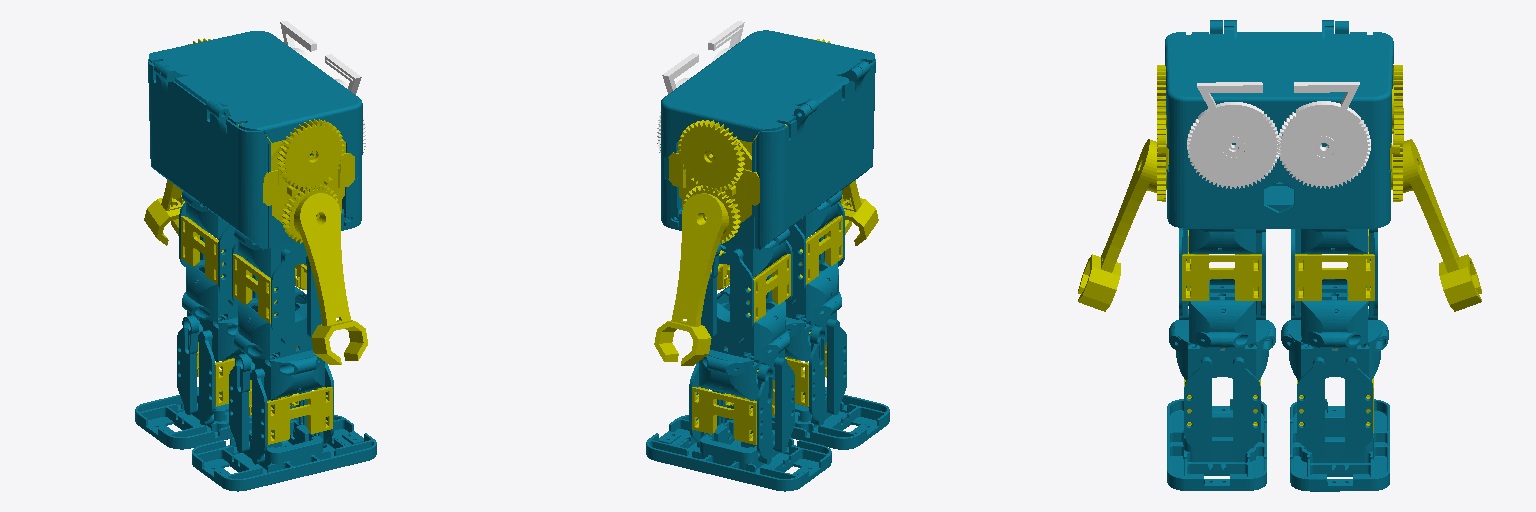
--- Render facts (derived) ---
Views: 3 orthographic renders of the robot side by side, from view 1: azimuth 30°, elevation 25°; view 2: azimuth 150°, elevation 25°; view 3: azimuth 270°, elevation 25°.
Robot: materials — 55 links, 54 joints (29 revolute, 25 fixed); root link base_link; default pose: every joint at zero.
Visible links, largest first — view 1: face, base_link, right_foot, right_arm, right_arm_servo_gear, left_foot, right_knee_crossbrace2, right_twist_servo_holder2, right_side_panel, right_hip_link2, left_knee_servo_link, right_knee_servo_link (+19 smaller); view 2: face, base_link, left_foot, left_arm, left_arm_servo_gear, right_foot, left_knee_crossbrace1, left_twist_servo_holder1, left_side_panel, left_hip_link3, left_knee_servo_mount, left_knee_link3 (+20 smaller); view 3: face, right_eye, left_eye, left_foot, right_foot, left_hip_crossbrace1, right_hip_crossbrace1, right_knee_servo_holder, left_knee_servo_holder, right_arm, left_arm, left_knee_link1 (+21 smaller).
Link boxes in pixels (bbox=[...]): face: bbox=[149, 31, 362, 227]; base_link: bbox=[148, 59, 360, 249]; right_foot: bbox=[192, 415, 376, 491]; right_arm: bbox=[294, 193, 350, 325]; right_arm_servo_gear: bbox=[277, 119, 344, 190]; left_foot: bbox=[135, 387, 298, 449]; right_knee_crossbrace2: bbox=[267, 387, 332, 444]; right_twist_servo_holder2: bbox=[239, 303, 312, 359]; right_side_panel: bbox=[263, 137, 354, 223]; right_hip_link2: bbox=[271, 249, 294, 346]; left_knee_servo_link: bbox=[177, 315, 198, 414]; right_knee_servo_link: bbox=[229, 354, 250, 452]; face: bbox=[661, 30, 874, 227]; base_link: bbox=[662, 59, 875, 249]; left_foot: bbox=[646, 415, 831, 491]; left_arm: bbox=[671, 193, 728, 326]; left_arm_servo_gear: bbox=[677, 120, 744, 190]; right_foot: bbox=[725, 387, 889, 449]; left_knee_crossbrace1: bbox=[692, 387, 756, 444]; left_twist_servo_holder1: bbox=[710, 303, 784, 359]; left_side_panel: bbox=[668, 136, 759, 224]; left_hip_link3: bbox=[730, 249, 753, 345]; left_knee_servo_mount: bbox=[717, 349, 784, 399]; left_knee_link3: bbox=[773, 357, 794, 453]; face: bbox=[1165, 20, 1393, 225]; right_eye: bbox=[1187, 82, 1279, 188]; left_eye: bbox=[1278, 82, 1370, 188]; left_foot: bbox=[1290, 399, 1389, 491]; right_foot: bbox=[1167, 399, 1266, 490]; left_hip_crossbrace1: bbox=[1295, 254, 1374, 300]; right_hip_crossbrace1: bbox=[1182, 254, 1261, 300]; right_knee_servo_holder: bbox=[1169, 328, 1275, 379]; left_knee_servo_holder: bbox=[1281, 328, 1388, 380]; right_arm: bbox=[1101, 139, 1156, 272]; left_arm: bbox=[1403, 139, 1458, 272]; left_knee_link1: bbox=[1345, 357, 1372, 461].
Size in the robot's own frame: 0.0958 by 0.2034 by 0.223 metres.
Meshes: 17 distinct files referenced, 55 mesh visuals loaded (17 binary STL).

URDF robot description (materials):
<?xml version="1.0"?>
<robot name="materials">
  <link name="base_link">
    <visual>
      <geometry>
        <mesh filename="package://pr2_description/meshes/marty/base.stl"/>
      </geometry>
      <origin rpy="1.57075 0 1.57075" xyz="-0.05 -0.0635 0"/>
      <material name="blue">
        <color rgba="0.07 0.52 .625 1"/>
      </material>
    </visual>
  </link>

  <joint name="face_joint" type="revolute">
    <origin rpy="0 0 0" xyz="-0.047 0.0015 0.075"/>
    <axis xyz="0 1 0"/>
    <limit effort="1000.0" lower="-4.5" upper="0" velocity="0.5"/>
    <parent link="base_link"/>
    <child link="face"/>
  </joint>

  <link name="face">
    <visual>
      <geometry>
        <mesh filename="package://pr2_description/meshes/marty/face.stl"/>
      </geometry>
      <material name="blue"/>
    <origin rpy="1.57075 0 1.57075" xyz="-0.003 -0.0655 -0.075"/>
    </visual>
  </link>

  <joint name="rpi_camera_mount_joint" type="fixed">
    <origin rpy="0 0 0" xyz="0.012 0 0.002"/>
    <parent link="base_link"/>
    <child link="rpi_camera_mount"/>
  </joint>

  <link name="rpi_camera_mount">
    <visual>
      <geometry>
        <mesh filename="package://pr2_description/meshes/marty/rpiCameraMount.stl"/>
      </geometry>
      <material name="blue"/>
    <origin rpy="1.57075 0 0" xyz="0 0.0125 0"/>
    </visual>
  </link>

  <joint name="left_side_panel_joint" type="fixed">
    <origin rpy="0 0 0" xyz="-0.006 0.0575 0.0375"/>
    <parent link="base_link"/>
    <child link="left_side_panel"/>
  </joint>

  <link name="left_side_panel">
    <visual>
      <geometry>
        <mesh filename="package://pr2_description/meshes/marty/sidePanel.stl"/>
      </geometry>
      <material name="yellow">
        <color rgba=".8 .8 0 1"/>
      </material>
      <origin rpy="1.57075 0 -1.57075" xyz="0.0437 0.005 -0.0375"/>
    </visual>
  </link>

  <joint name="left_arm_servo_gear_joint" type="revolute">
    <origin rpy="-1.57 0.085 0" xyz="0 0.002 0.014"/>
    <axis xyz="0 0 1"/>
    <limit effort="1000.0" lower="-3.1415" upper="3.1415" velocity="0.5"/>
    <parent link="left_side_panel"/>
    <child link="left_arm_servo_gear"/>
  </joint>

  <link name="left_arm_servo_gear">
    <visual>
      <geometry>
        <mesh filename="package://pr2_description/meshes/marty/armServoGear.stl"/>
      </geometry>
      <material name="yellow"/>
    <origin rpy="0 1.57 0" xyz="-0.02 -0.02 0.003"/>
    </visual>
  </link>

  <joint name="left_arm_gear_joint" type="revolute">
    <origin rpy="-1.57075 0 0" xyz="0 0 -0.021"/>
    <mimic joint="left_arm_servo_gear_joint" multiplier="-1.1875" offset="0"/>
    <axis xyz="0 0 1"/>
    <limit effort="1000.0" lower="-3.1415" upper="3.1415" velocity="0.5"/>
    <parent link="left_side_panel"/>
    <child link="left_arm_gear"/>
  </joint>

  <link name="left_arm_gear">
    <visual>
      <geometry>
        <mesh filename="package://pr2_description/meshes/marty/armGear.stl"/>
      </geometry>
      <material name="yellow"/>
    <origin rpy="0 0 0" xyz="-0.017 -0.017 -0.002"/>
    </visual>
  </link>

  <joint name="left_arm_joint" type="fixed">
    <origin rpy="0 0 0" xyz="0 0 0"/>
    <parent link="left_arm_gear"/>
    <child link="left_arm"/>
  </joint>

  <link name="left_arm">
    <visual>
      <geometry>
        <mesh filename="package://pr2_description/meshes/marty/arm.stl"/>
      </geometry>
      <material name="yellow"/>
      <origin rpy="-0.35 0 3.1415" xyz="0.0125 0.0585 0.02"/>
    </visual>
  </link>

  <joint name="left_hand_joint" type="fixed">
    <origin rpy="0.35 0 0" xyz="0 0.058 0.03"/>
    <parent link="left_arm"/>
    <child link="left_hand"/>
  </joint>

  <link name="left_hand">
    <visual>
      <geometry>
        <mesh filename="package://pr2_description/meshes/marty/hand.stl"/>
      </geometry>
      <material name="yellow"/>
      <origin rpy="0 0 3.1415" xyz="0.013125 0.0189 -0.006"/>
    </visual>
  </link>

  <joint name="right_side_panel_joint" type="fixed">
    <origin rpy="0 0 0" xyz="-0.006 -0.055 0.0375"/>
    <parent link="base_link"/>
    <child link="right_side_panel"/>
  </joint>

  <link name="right_side_panel">
    <visual>
      <geometry>
        <mesh filename="package://pr2_description/meshes/marty/sidePanel.stl"/>
      </geometry>
      <material name="yellow">
        <color rgba=".8 .8 0 1"/>
      </material>
    <origin rpy="1.57075 0 1.57075" xyz="-0.0437 -0.0075 -0.0375"/>
    </visual>
  </link>

  <joint name="right_arm_servo_gear_joint" type="revolute">
    <origin rpy="1.57075 -3.055 0" xyz="0 -0.0035 0.014"/>
    <axis xyz="0 0 1"/>
    <limit effort="1000.0" lower="-3.1415" upper="3.1415" velocity="0.5"/>
    <parent link="right_side_panel"/>
    <child link="right_arm_servo_gear"/>
  </joint>

  <link name="right_arm_servo_gear">
    <visual>
      <geometry>
        <mesh filename="package://pr2_description/meshes/marty/armServoGear.stl"/>
      </geometry>
      <material name="yellow"/>
    <origin rpy="0 1.57075 0" xyz="-0.02 -0.02 0.003"/>
    </visual>
  </link>

  <joint name="right_arm_gear_joint" type="revolute">
    <mimic joint="right_arm_servo_gear_joint" multiplier="-1.1875" offset="0"/>
    <origin rpy="1.57075 -3.1415 0" xyz="0 -0.0015 -0.021"/>
    <axis xyz="0 0 1"/>
    <limit effort="1000.0" lower="-3.1415" upper="3.1415" velocity="0.5"/>
    <parent link="right_side_panel"/>
    <child link="right_arm_gear"/>
  </joint>

  <link name="right_arm_gear">
    <visual>
      <geometry>
        <mesh filename="package://pr2_description/meshes/marty/armGear.stl"/>
      </geometry>
      <material name="yellow"/>
    <origin rpy="0 0 0" xyz="-0.017 -0.017 -0.002"/>
    </visual>
  </link>

  <joint name="right_arm_joint" type="fixed">
    <origin rpy="0 0 0" xyz="0 0 0"/>
    <parent link="right_arm_gear"/>
    <child link="right_arm"/>
  </joint>

  <link name="right_arm">
    <visual>
      <geometry>
        <mesh filename="package://pr2_description/meshes/marty/arm.stl"/>
      </geometry>
      <material name="yellow"/>
      <origin rpy="-0.35 0 3.1415" xyz="0.0125 0.0585 0.02"/>
    </visual>
  </link>

  <joint name="right_hand_joint" type="fixed">
    <origin rpy="0.35 0 0" xyz="0 0.058 0.03"/>
    <parent link="right_arm"/>
    <child link="right_hand"/>
  </joint>

  <link name="right_hand">
    <visual>
      <geometry>
        <mesh filename="package://pr2_description/meshes/marty/hand.stl"/>
      </geometry>
      <material name="yellow"/>
      <origin rpy="0 0 3.1415" xyz="0.013125 0.0189 -0.006"/>
    </visual>
  </link>

  <joint name="right_eye_joint" type="revolute">
    <origin rpy="0 0 0" xyz="0.079 -0.02425 -0.0275"/>
    <mimic joint="left_eye_joint" multiplier="-1" offset="0"/>
    <axis xyz="1 0 0"/>
    <limit effort="1000.0" lower="-3.1415" upper="3.1415" velocity="0.5"/>
    <parent link="face"/>
    <child link="right_eye"/>
  </joint>

  <link name="right_eye">
    <visual>
      <geometry>
        <mesh filename="package://pr2_description/meshes/marty/eyeRight.stl"/>
      </geometry>
      <material name="white">
        <color rgba="1 1 1 1"/>
      </material>
      <origin rpy="1.57 -0.06 -1.57" xyz="0.0037 0.022 -0.025"/>
    </visual>
  </link>

  <joint name="left_eye_joint" type="revolute">
    <origin rpy="0 0 0" xyz="0.079 0.02125 -0.0275"/>
    <axis xyz="1 0 0"/>
    <limit effort="1000.0" lower="-2.35" upper="0.23" velocity="0.5"/>
    <parent link="face"/>
    <child link="left_eye"/>
  </joint>

  <link name="left_eye">
    <visual>
      <geometry>
        <mesh filename="package://pr2_description/meshes/marty/eyeLeft.stl"/>
      </geometry>
      <material name="white"/>
      <!-- <origin rpy="0 1.57075 0" xyz="0 -0.0235 0.0235"/> -->
      <origin rpy="1.57 -0.02 1.57" xyz="0 -0.023 -0.0238"/>
    </visual>
  </link>

  <!-- LEFT HIP -->

  <joint name="left_hip_servo_holder_joint" type="fixed">
    <origin rpy="0 0 0" xyz="-0.0075 0.01825 -0.015"/>
    <parent link="base_link"/>
    <child link="left_hip_servo_holder"/>
  </joint>
  <link name="left_hip_servo_holder">
    <visual>
      <geometry>
        <mesh filename="package://pr2_description/meshes/marty/servoHolder.stl"/>
      </geometry>
      <material name="blue"/>
      <origin rpy="1.57 0 3.1415" xyz="0.0282 -0.00825 -0.0095"/>
    </visual>
  </link>

  <joint name="left_hip_servo_mount_joint" type="fixed">
    <origin rpy="0 0 0" xyz="-0.0075 0.03825 -0.015"/>
    <parent link="base_link"/>
    <child link="left_hip_servo_mount"/>
  </joint>
  <link name="left_hip_servo_mount">
    <visual>
      <geometry>
        <mesh filename="package://pr2_description/meshes/marty/servoMount.stl"/>
      </geometry>
      <material name="blue"/>
      <origin rpy="1.57 0 0" xyz="-0.0258 0.0078   -0.0095"/>
    </visual>
  </link>

  <joint name="left_hip_link1_joint" type="revolute">
    <origin rpy="0 0 0" xyz="0.00925 0 0.00376"/>
    <mimic joint="left_hip_servo_link_joint" multiplier="1" offset="0"/>
    <axis xyz="0 1 0"/>
    <limit effort="1000.0" lower="-1.57" upper="1.57" velocity="0.5"/>
    <parent link="left_hip_servo_holder"/>
    <child link="left_hip_link1"/>
  </joint>
  <link name="left_hip_link1">
    <visual>
      <geometry>
        <mesh filename="package://pr2_description/meshes/marty/link.stl"/>
      </geometry>
      <material name="blue"/>
      <origin rpy="0 1.57 0" xyz="-0.003 -0.0121 0.003"/>
    </visual>
  </link>

  <joint name="left_hip_link2_joint" type="revolute">
    <origin rpy="0 0 0" xyz="-0.0069 0 0.00376"/>
    <mimic joint="left_hip_servo_link_joint" multiplier="1" offset="0"/>
    <axis xyz="0 1 0"/>
    <limit effort="1000.0" lower="-1.57" upper="1.57" velocity="0.5"/>
    <parent link="left_hip_servo_holder"/>
    <child link="left_hip_link2"/>
  </joint>
  <link name="left_hip_link2">
    <visual>
      <geometry>
        <mesh filename="package://pr2_description/meshes/marty/link.stl"/>
      </geometry>
      <material name="blue"/>
      <origin rpy="0 -1.57 0" xyz="0.003 -0.0121 -0.053"/>
    </visual>
  </link>

  <joint name="left_hip_link3_joint" type="revolute">
    <origin rpy="0 0 0" xyz="-0.007 0 0.00376"/>
    <mimic joint="left_hip_servo_link_joint" multiplier="1" offset="0"/>
    <axis xyz="0 1 0"/>
    <limit effort="1000.0" lower="-1.57" upper="1.57" velocity="0.5"/>
    <parent link="left_hip_servo_mount"/>
    <child link="left_hip_link3"/>
  </joint>
  <link name="left_hip_link3">
    <visual>
      <geometry>
        <mesh filename="package://pr2_description/meshes/marty/link.stl"/>
      </geometry>
      <material name="blue"/>
      <origin rpy="0 1.57 3.1415" xyz="0.0031 0.0116 0.003"/>
    </visual>
  </link>

  <joint name="left_hip_servo_link_joint" type="revolute">
    <origin rpy="0 0 0" xyz="0.00925 0 0.00376"/>
    <axis xyz="0 1 0"/>
    <limit effort="1000.0" lower="-1.03" upper="1.03" velocity="0.5"/>
    <parent link="left_hip_servo_mount"/>
    <child link="left_hip_servo_link"/>
  </joint>
  <link name="left_hip_servo_link">
    <visual>
      <geometry>
        <mesh filename="package://pr2_description/meshes/marty/servoLink.stl"/>
      </geometry>
      <material name="blue"/>
      <origin rpy="0 -1.57 3.1415" xyz="-0.005 0.0116 -0.053"/>
    </visual>
  </link>

  <joint name="left_hip_crossbrace1_joint" type="fixed">
    <origin rpy="0 0 0" xyz="0 -0.01 -0.025"/>
    <parent link="left_hip_servo_link"/>
    <child link="left_hip_crossbrace1"/>
  </joint>
  <link name="left_hip_crossbrace1">
    <visual>
      <geometry>
        <mesh filename="package://pr2_description/meshes/marty/crossbrace.stl"/>
      </geometry>
      <material name="yellow"/>
      <origin rpy="1.57 0 1.57" xyz="0.0031 -0.0204 -0.0125"/>
    </visual>
  </link>

  <joint name="left_hip_crossbrace2_joint" type="fixed">
    <origin rpy="0 0 0" xyz="0 -0.01 -0.025"/>
    <parent link="left_hip_link3"/>
    <child link="left_hip_crossbrace2"/>
  </joint>
  <link name="left_hip_crossbrace2">
    <visual>
      <geometry>
        <mesh filename="package://pr2_description/meshes/marty/crossbrace.stl"/>
      </geometry>
      <material name="yellow"/>
      <origin rpy="1.57 0 -1.57" xyz="-0.0031 0.0199 -0.0125"/>
    </visual>
  </link>

  <!-- LEFT TWIST -->

  <joint name="left_twist_servo_holder1_joint" type="revolute">
    <origin rpy="0 0 0" xyz="0 0 -0.05"/>
    <axis xyz="0 1 0"/>
    <limit effort="1000.0" lower="-1.57" upper="1.57" velocity="0.5"/>
    <mimic joint="left_hip_servo_link_joint" multiplier="-1" offset="0"/>
    <parent link="left_hip_servo_link"/>
    <child link="left_twist_servo_holder1"/>
  </joint>
  <link name="left_twist_servo_holder1">
    <visual>
      <geometry>
        <mesh filename="package://pr2_description/meshes/marty/servoHolder.stl"/>
      </geometry>
      <material name="blue"/>
      <origin rpy="1.57 3.1415 0" xyz="0.0188 0.00785 0.013"/>
    </visual>
  </link>

  <joint name="left_twist_servo_holder2_joint" type="fixed">
    <origin rpy="0 0 0" xyz="0 -0.02 0"/>
    <parent link="left_twist_servo_holder1"/>
    <child link="left_twist_servo_holder2"/>
  </joint>
  <link name="left_twist_servo_holder2">
    <visual>
      <geometry>
        <mesh filename="package://pr2_description/meshes/marty/servoHolder.stl"/>
      </geometry>
      <material name="blue"/>
      <origin rpy="-1.57 0 0" xyz="-0.035225 -0.00825 0.013"/>
    </visual>
  </link>

  <joint name="left_twist_shaft_joint" type="revolute">
    <origin rpy="0 0 0" xyz="-0.009 -0.01 -0.0164"/>
    <axis xyz="0 0 1"/>
    <limit effort="1000.0" lower="-1.57" upper="1.57" velocity="0.5"/>
    <parent link="left_twist_servo_holder1"/>
    <child link="left_twist_shaft"/>
  </joint>
  <link name="left_twist_shaft">
    <visual>
      <geometry>
        <mesh filename="package://pr2_description/meshes/marty/twistShaft.stl"/>
      </geometry>
      <material name="orange">
        <color rgba="0.84 0.41 0.14 1"/>
      </material>
      <origin rpy="1.57 0 -1.57" xyz="0.01635 0.01325 0"/>
    </visual>
  </link>

  <!-- LEFT KNEE -->

  <joint name="left_knee_servo_holder_joint" type="fixed">
    <origin rpy="0 0 0" xyz="0.01 0.008 -0.0062"/>
    <parent link="left_twist_shaft"/>
    <child link="left_knee_servo_holder"/>
  </joint>
  <link name="left_knee_servo_holder">
    <visual>
      <geometry>
        <mesh filename="package://pr2_description/meshes/marty/servoHolder.stl"/>
      </geometry>
      <material name="blue"/>
      <origin rpy="1.57 0 -1.57" xyz="0.00855 0.01885 -0.0133"/>
    </visual>
  </link>

  <joint name="left_knee_servo_mount_joint" type="fixed">
    <origin rpy="0 0 0" xyz="-0.0099 0.008 -0.0062"/>
    <parent link="left_twist_shaft"/>
    <child link="left_knee_servo_mount"/>
  </joint>
  <link name="left_knee_servo_mount">
    <visual>
      <geometry>
        <mesh filename="package://pr2_description/meshes/marty/servoMount.stl"/>
      </geometry>
      <material name="blue"/>
      <origin rpy="1.57 0 1.57" xyz="-0.0075825 -0.0351 -0.0133"/>
    </visual>
  </link>

  <joint name="left_knee_link1_joint" type="revolute">
    <origin rpy="0 0 0" xyz="0 0 0"/>
    <mimic joint="left_knee_servo_link_joint" multiplier="1" offset="0"/>
    <axis xyz="1 0 0"/>
    <limit effort="1000.0" lower="-1.57" upper="1.57" velocity="0.5"/>
    <parent link="left_knee_servo_holder"/>
    <child link="left_knee_link1"/>
  </joint>
  <link name="left_knee_link1">
    <visual>
      <geometry>
        <mesh filename="package://pr2_description/meshes/marty/link.stl"/>
      </geometry>
      <material name="blue"/>
      <origin rpy="0 1.57 1.57" xyz="0.0123 -0.003 0.003"/>
    </visual>
  </link>

  <joint name="left_knee_link2_joint" type="revolute">
    <origin rpy="0 0 0" xyz="0 -0.01615 0"/>
    <mimic joint="left_knee_servo_link_joint" multiplier="1" offset="0"/>
    <axis xyz="1 0 0"/>
    <limit effort="1000.0" lower="-1.57" upper="1.57" velocity="0.5"/>
    <parent link="left_knee_servo_holder"/>
    <child link="left_knee_link2"/>
  </joint>
  <link name="left_knee_link2">
    <visual>
      <geometry>
        <mesh filename="package://pr2_description/meshes/marty/link.stl"/>
      </geometry>
      <material name="blue"/>
      <origin rpy="0 -1.57 1.57" xyz="0.0123 0.00291 -0.053"/>
    </visual>
  </link>

  <joint name="left_knee_link3_joint" type="revolute">
    <origin rpy="0 0 0" xyz="-0.005 -0.01615 0"/>
    <mimic joint="left_knee_servo_link_joint" multiplier="1" offset="0"/>
    <axis xyz="1 0 0"/>
    <limit effort="1000.0" lower="-1.57" upper="1.57" velocity="0.5"/>
    <parent link="left_knee_servo_mount"/>
    <child link="left_knee_link3"/>
  </joint>
  <link name="left_knee_link3">
    <visual>
      <geometry>
        <mesh filename="package://pr2_description/meshes/marty/link.stl"/>
      </geometry>
      <material name="blue"/>
      <origin rpy="0 1.57 -1.57" xyz="-0.0064 0.00291 0.003"/>
    </visual>
  </link>

  <joint name="left_knee_servo_link_joint" type="revolute">
    <origin rpy="0 0 0" xyz="-0.005 0 0"/>
    <axis xyz="1 0 0"/>
    <limit effort="1000.0" lower="-1.03" upper="1.03" velocity="0.5"/>
    <parent link="left_knee_servo_mount"/>
    <child link="left_knee_servo_link"/>
  </joint>
  <link name="left_knee_servo_link">
    <visual>
      <geometry>
        <mesh filename="package://pr2_description/meshes/marty/servoLink.stl"/>
      </geometry>
      <material name="blue"/>
      <origin rpy="0 -1.57 -1.57" xyz="-0.0064 -0.005 -0.053"/>
    </visual>
  </link>

  <joint name="left_knee_crossbrace1_joint" type="fixed">
    <origin rpy="0 0 0" xyz="0.015 0.01 -0.025"/>
    <parent link="left_knee_servo_link"/>
    <child link="left_knee_crossbrace1"/>
  </joint>
  <link name="left_knee_crossbrace1">
    <visual>
      <geometry>
        <mesh filename="package://pr2_description/meshes/marty/crossbrace.stl"/>
      </geometry>
      <material name="yellow"/>
      <origin rpy="1.57 0 -3.1415" xyz="0.02075 -0.0067 -0.0125"/>
    </visual>
  </link>

  <joint name="left_knee_crossbrace2_joint" type="fixed">
    <origin rpy="0 0 0" xyz="0.015 -0.01 -0.025"/>
    <parent link="left_knee_link3"/>
    <child link="left_knee_crossbrace2"/>
  </joint>
  <link name="left_knee_crossbrace2">
    <visual>
      <geometry>
        <mesh filename="package://pr2_description/meshes/marty/crossbrace.stl"/>
      </geometry>
      <material name="yellow"/>
      <origin rpy="1.57 0 0" xyz="-0.01925 0.0067 -0.0125"/>
    </visual>
  </link>

  <joint name="left_foot_joint" type="revolute">
    <origin rpy="0 0 0" xyz="0 0 -0.05"/>
    <mimic joint="left_knee_servo_link_joint" multiplier="-1" offset="0"/>
    <axis xyz="1 0 0"/>
    <limit effort="1000.0" lower="-1.03" upper="1.03" velocity="0.5"/>
    <parent link="left_knee_servo_link"/>
    <child link="left_foot"/>
  </joint>
  <link name="left_foot">
    <visual>
      <geometry>
        <mesh filename="package://pr2_description/meshes/marty/foot.stl"/>
      </geometry>
      <material name="blue"/>
      <origin rpy="1.57 0 3.1415" xyz="0.0635 -0.0306 -0.00725"/>
    </visual>
  </link>

  <!-- RIGHT HIP -->

  <joint name="right_hip_servo_holder_joint" type="fixed">
    <origin rpy="0 0 0" xyz="-0.0075 -0.03825 -0.015"/>
    <parent link="base_link"/>
    <child link="right_hip_servo_holder"/>
  </joint>
  <link name="right_hip_servo_holder">
    <visual>
      <geometry>
        <mesh filename="package://pr2_description/meshes/marty/servoHolder.stl"/>
      </geometry>
      <material name="blue"/>
      <origin rpy="1.57 0 3.1415" xyz="0.0282 -0.00825 -0.0095"/>
    </visual>
  </link>

  <joint name="right_hip_servo_mount_joint" type="fixed">
    <origin rpy="0 0 0" xyz="-0.0075 -0.01825 -0.015"/>
    <parent link="base_link"/>
    <child link="right_hip_servo_mount"/>
  </joint>
  <link name="right_hip_servo_mount">
    <visual>
      <geometry>
        <mesh filename="package://pr2_description/meshes/marty/servoMount.stl"/>
      </geometry>
      <material name="blue"/>
      <origin rpy="1.57 0 0" xyz="-0.0258 0.0078   -0.0095"/>
    </visual>
  </link>

  <joint name="right_hip_link1_joint" type="revolute">
    <origin rpy="0 0 0" xyz="0.00925 0 0.00376"/>
    <mimic joint="right_hip_servo_link_joint" multiplier="1" offset="0"/>
    <axis xyz="0 1 0"/>
    <limit effort="1000.0" lower="-1.57" upper="1.57" velocity="0.5"/>
    <parent link="right_hip_servo_holder"/>
    <child link="right_hip_link1"/>
  </joint>
  <link name="right_hip_link1">
    <visual>
      <geometry>
        <mesh filename="package://pr2_description/meshes/marty/link.stl"/>
      </geometry>
      <material name="blue"/>
      <origin rpy="0 1.57 0" xyz="-0.003 -0.0121 0.003"/>
    </visual>
  </link>

  <joint name="right_hip_link2_joint" type="revolute">
    <origin rpy="0 0 0" xyz="-0.0069 0 0.00376"/>
    <mimic joint="right_hip_servo_link_joint" multiplier="1" offset="0"/>
    <axis xyz="0 1 0"/>
    <limit effort="1000.0" lower="-1.57" upper="1.57" velocity="0.5"/>
    <parent link="right_hip_servo_holder"/>
    <child link="right_hip_link2"/>
  </joint>
  <link name="right_hip_link2">
    <visual>
      <geometry>
        <mesh filename="package://pr2_description/meshes/marty/link.stl"/>
      </geometry>
      <material name="blue"/>
      <origin rpy="0 -1.57 0" xyz="0.003 -0.0121 -0.053"/>
    </visual>
  </link>

  <joint name="right_hip_link3_joint" type="revolute">
    <origin rpy="0 0 0" xyz="-0.007 0 0.00376"/>
    <mimic joint="right_hip_servo_link_joint" multiplier="1" offset="0"/>
    <axis xyz="0 1 0"/>
    <limit effort="1000.0" lower="-1.57" upper="1.57" velocity="0.5"/>
    <parent link="right_hip_servo_mount"/>
    <child link="right_hip_link3"/>
  </joint>
  <link name="right_hip_link3">
    <visual>
      <geometry>
        <mesh filename="package://pr2_description/meshes/marty/link.stl"/>
      </geometry>
      <material name="blue"/>
      <origin rpy="0 1.57 3.1415" xyz="0.0031 0.0116 0.003"/>
    </visual>
  </link>

  <joint name="right_hip_servo_link_joint" type="revolute">
    <origin rpy="0 0 0" xyz="0.00925 0 0.00376"/>
    <axis xyz="0 1 0"/>
    <limit effort="1000.0" lower="-1.03" upper="1.03" velocity="0.5"/>
    <parent link="right_hip_servo_mount"/>
    <child link="right_hip_servo_link"/>
  </joint>
  <link name="right_hip_servo_link">
    <visual>
      <geometry>
        <mesh filename="package://pr2_description/meshes/marty/servoLink.stl"/>
      </geometry>
      <material name="blue"/>
      <origin rpy="0 -1.57 3.1415" xyz="-0.005 0.0116 -0.053"/>
    </visual>
  </link>

  <joint name="right_hip_crossbrace1_joint" type="fixed">
    <origin rpy="0 0 0" xyz="0 -0.01 -0.025"/>
    <parent link="right_hip_servo_link"/>
    <child link="right_hip_crossbrace1"/>
  </joint>
  <link name="right_hip_crossbrace1">
    <visual>
      <geometry>
        <mesh filename="package://pr2_description/meshes/marty/crossbrace.stl"/>
      </geometry>
      <material name="yellow"/>
      <origin rpy="1.57 0 1.57" xyz="0.0031 -0.0204 -0.0125"/>
    </visual>
  </link>

  <joint name="right_hip_crossbrace2_joint" type="fixed">
    <origin rpy="0 0 0" xyz="0 -0.01 -0.025"/>
    <parent link="right_hip_link3"/>
    <child link="right_hip_crossbrace2"/>
  </joint>
  <link name="right_hip_crossbrace2">
    <visual>
      <geometry>
        <mesh filename="package://pr2_description/meshes/marty/crossbrace.stl"/>
      </geometry>
      <material name="yellow"/>
      <origin rpy="1.57 0 -1.57" xyz="-0.0031 0.0199 -0.0125"/>
    </visual>
  </link>

  <!-- RIGHT TWIST -->

  <joint name="right_twist_servo_holder1_joint" type="revolute">
    <origin rpy="0 0 0" xyz="0 0 -0.05"/>
    <axis xyz="0 1 0"/>
    <limit effort="1000.0" lower="-1.57" upper="1.57" velocity="0.5"/>
    <mimic joint="right_hip_servo_link_joint" multiplier="-1" offset="0"/>
    <parent link="right_hip_servo_link"/>
    <child link="right_twist_servo_holder1"/>
  </joint>
  <link name="right_twist_servo_holder1">
    <visual>
      <geometry>
        <mesh filename="package://pr2_description/meshes/marty/servoHolder.stl"/>
      </geometry>
      <material name="blue"/>
      <origin rpy="1.57 3.1415 0" xyz="0.0188 0.00785 0.013"/>
    </visual>
  </link>

  <joint name="right_twist_servo_holder2_joint" type="fixed">
    <origin rpy="0 0 0" xyz="0 -0.02 0"/>
    <parent link="right_twist_servo_holder1"/>
    <child link="right_twist_servo_holder2"/>
  </joint>
  <link name="right_twist_servo_holder2">
    <visual>
      <geometry>
        <mesh filename="package://pr2_description/meshes/marty/servoHolder.stl"/>
      </geometry>
      <material name="blue"/>
      <origin rpy="-1.57 0 0" xyz="-0.035225 -0.00825 0.013"/>
    </visual>
  </link>

  <joint name="right_twist_shaft_joint" type="revolute">
    <origin rpy="0 0 0" xyz="-0.009 -0.01 -0.0164"/>
    <axis xyz="0 0 1"/>
    <limit effort="1000.0" lower="-1.57" upper="1.57" velocity="0.5"/>
    <parent link="right_twist_servo_holder1"/>
    <child link="right_twist_shaft"/>
  </joint>
  <link name="right_twist_shaft">
    <visual>
      <geometry>
        <mesh filename="package://pr2_description/meshes/marty/twistShaft.stl"/>
      </geometry>
      <material name="orange">
        <color rgba="0.84 0.41 0.14 1"/>
      </material>
      <origin rpy="1.57 0 -1.57" xyz="0.01635 0.01325 0"/>
    </visual>
  </link>

  <!-- RIGHT KNEE -->

  <joint name="right_knee_servo_holder_joint" type="fixed">
    <origin rpy="0 0 0" xyz="0.01 0.008 -0.0062"/>
    <parent link="right_twist_shaft"/>
    <child link="right_knee_servo_holder"/>
  </joint>
  <link name="right_knee_servo_holder">
    <visual>
      <geometry>
        <mesh filename="package://pr2_description/meshes/marty/servoHolder.stl"/>
      </geometry>
      <material name="blue"/>
      <origin rpy="1.57 0 -1.57" xyz="0.00855 0.01885 -0.0133"/>
    </visual>
  </link>

  <joint name="right_knee_servo_mount_joint" type="fixed">
    <origin rpy="0 0 0" xyz="-0.0099 0.008 -0.0062"/>
    <parent link="right_twist_shaft"/>
    <child link="right_knee_servo_mount"/>
  </joint>
  <link name="right_knee_servo_mount">
    <visual>
      <geometry>
        <mesh filename="package://pr2_description/meshes/marty/servoMount.stl"/>
      </geometry>
      <material name="blue"/>
      <origin rpy="1.57 0 1.57" xyz="-0.0075825 -0.0351 -0.0133"/>
    </visual>
  </link>

  <joint name="right_knee_link1_joint" type="revolute">
    <origin rpy="0 0 0" xyz="0 0 0"/>
    <mimic joint="right_knee_servo_link_joint" multiplier="1" offset="0"/>
    <axis xyz="1 0 0"/>
    <limit effort="1000.0" lower="-1.57" upper="1.57" velocity="0.5"/>
    <parent link="right_knee_servo_holder"/>
    <child link="right_knee_link1"/>
  </joint>
  <link name="right_knee_link1">
    <visual>
      <geometry>
        <mesh filename="package://pr2_description/meshes/marty/link.stl"/>
      </geometry>
      <material name="blue"/>
      <origin rpy="0 1.57 1.57" xyz="0.0123 -0.003 0.003"/>
    </visual>
  </link>

  <joint name="right_knee_link2_joint" type="revolute">
    <origin rpy="0 0 0" xyz="0 -0.01615 0"/>
    <mimic joint="right_knee_servo_link_joint" multiplier="1" offset="0"/>
    <axis xyz="1 0 0"/>
    <limit effort="1000.0" lower="-1.57" upper="1.57" velocity="0.5"/>
    <parent link="right_knee_servo_holder"/>
    <child link="right_knee_link2"/>
  </joint>
  <link name="right_knee_link2">
    <visual>
      <geometry>
        <mesh filename="package://pr2_description/meshes/marty/link.stl"/>
      </geometry>
      <material name="blue"/>
      <origin rpy="0 -1.57 1.57" xyz="0.0123 0.00291 -0.053"/>
    </visual>
  </link>

  <joint name="right_knee_link3_joint" type="revolute">
    <origin rpy="0 0 0" xyz="-0.005 -0.01615 0"/>
    <mimic joint="right_knee_servo_link_joint" multiplier="1" offset="0"/>
    <axis xyz="1 0 0"/>
    <limit effort="1000.0" lower="-1.57" upper="1.57" velocity="0.5"/>
    <parent link="right_knee_servo_mount"/>
    <child link="right_knee_link3"/>
  </joint>
  <link name="right_knee_link3">
    <visual>
      <geometry>
        <mesh filename="package://pr2_description/meshes/marty/link.stl"/>
      </geometry>
      <material name="blue"/>
      <origin rpy="0 1.57 -1.57" xyz="-0.0064 0.00291 0.003"/>
    </visual>
  </link>

  <joint name="right_knee_servo_link_joint" type="revolute">
    <origin rpy="0 0 0" xyz="-0.005 0 0"/>
    <axis xyz="1 0 0"/>
    <limit effort="1000.0" lower="-1.03" upper="1.03" velocity="0.5"/>
    <parent link="right_knee_servo_mount"/>
    <child link="right_knee_servo_link"/>
  </joint>
  <link name="right_knee_servo_link">
    <visual>
      <geometry>
        <mesh filename="package://pr2_description/meshes/marty/servoLink.stl"/>
      </geometry>
      <material name="blue"/>
      <origin rpy="0 -1.57 -1.57" xyz="-0.0064 -0.005 -0.053"/>
    </visual>
  </link>

  <joint name="right_knee_crossbrace1_joint" type="fixed">
    <origin rpy="0 0 0" xyz="0.015 0.01 -0.025"/>
    <parent link="right_knee_servo_link"/>
    <child link="right_knee_crossbrace1"/>
  </joint>
  <link name="right_knee_crossbrace1">
    <visual>
      <geometry>
        <mesh filename="package://pr2_description/meshes/marty/crossbrace.stl"/>
      </geometry>
      <material name="yellow"/>
      <origin rpy="1.57 0 -3.1415" xyz="0.02075 -0.0067 -0.0125"/>
    </visual>
  </link>

  <joint name="right_knee_crossbrace2_joint" type="fixed">
    <origin rpy="0 0 0" xyz="0.015 -0.01 -0.025"/>
    <parent link="right_knee_link3"/>
    <child link="right_knee_crossbrace2"/>
  </joint>
  <link name="right_knee_crossbrace2">
    <visual>
      <geometry>
        <mesh filename="package://pr2_description/meshes/marty/crossbrace.stl"/>
      </geometry>
      <material name="yellow"/>
      <origin rpy="1.57 0 0" xyz="-0.01925 0.0067 -0.0125"/>
    </visual>
  </link>

  <joint name="right_foot_joint" type="revolute">
    <origin rpy="0 0 0" xyz="0 0 -0.05"/>
    <mimic joint="right_knee_servo_link_joint" multiplier="-1" offset="0"/>
    <axis xyz="1 0 0"/>
    <limit effort="1000.0" lower="-1.03" upper="1.03" velocity="0.5"/>
    <parent link="right_knee_servo_link"/>
    <child link="right_foot"/>
  </joint>
  <link name="right_foot">
    <visual>
      <geometry>
        <mesh filename="package://pr2_description/meshes/marty/foot.stl"/>
      </geometry>
      <material name="blue"/>
      <origin rpy="1.57 0 0" xyz="-0.03225 0.0143 -0.00725"/>
    </visual>
  </link>

</robot>
